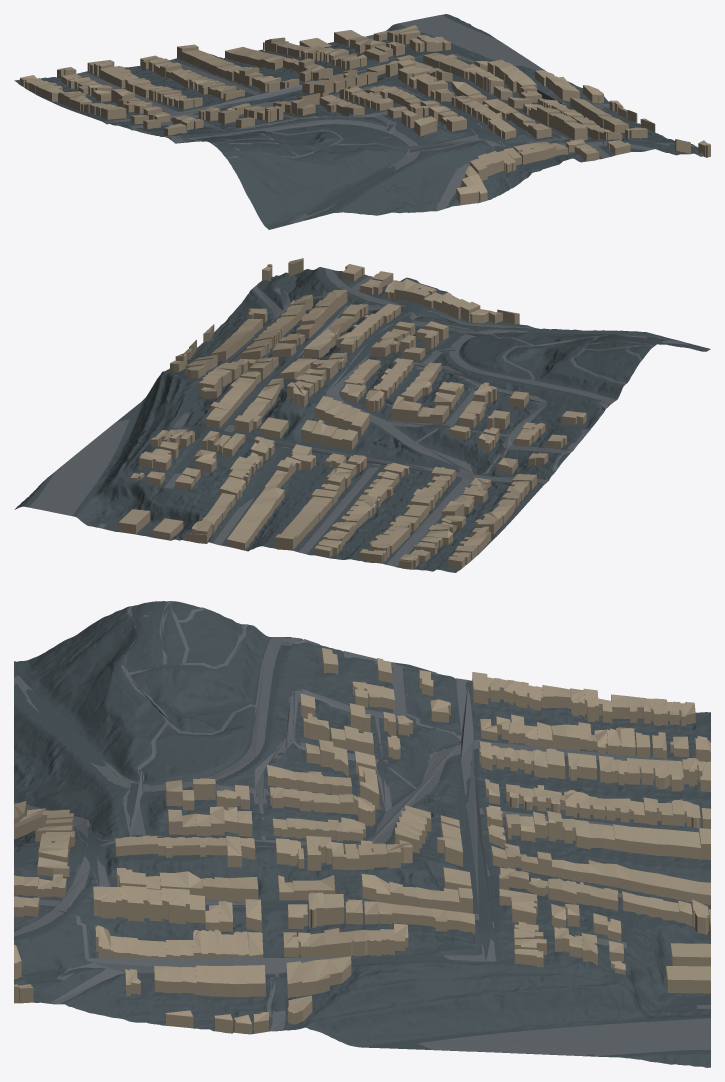
Rendered from epsg26910-1437-10878.lod0.glb.
3 renders of one model, top to bottom at view 1: azimuth 30°, elevation 25°; view 2: azimuth 150°, elevation 25°; view 3: azimuth 270°, elevation 25°, orthographic. The views are drawn at different scales.
Visible parts, largest first — view 1: epsg26910-1437-10878-lod0; view 2: epsg26910-1437-10878-lod0; view 3: epsg26910-1437-10878-lod0.
Part boxes in pixels (x1,y1,x2,y2): epsg26910-1437-10878-lod0: (14, 14, 710, 229); epsg26910-1437-10878-lod0: (14, 258, 710, 572); epsg26910-1437-10878-lod0: (14, 601, 710, 1067).
Size of the model in its own units: 384 by 105 by 384.
